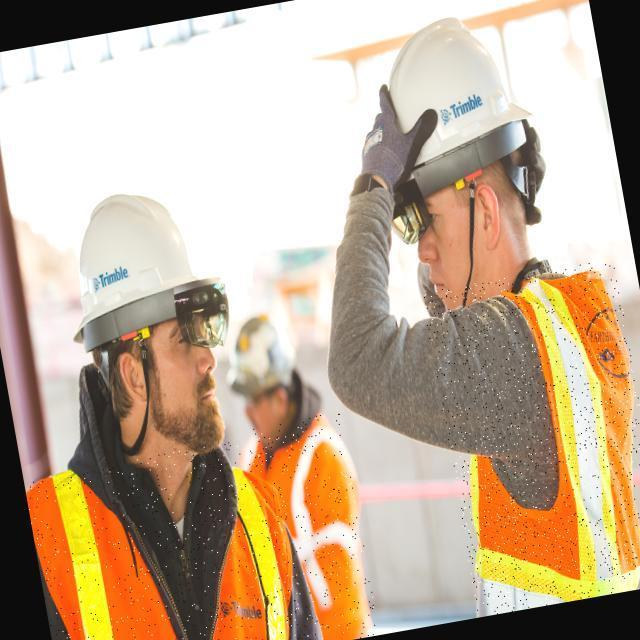helmet: (349, 5, 541, 207), (69, 181, 225, 355), (229, 311, 305, 400)
vest: (421, 258, 640, 617), (23, 435, 301, 640), (250, 411, 379, 640)
